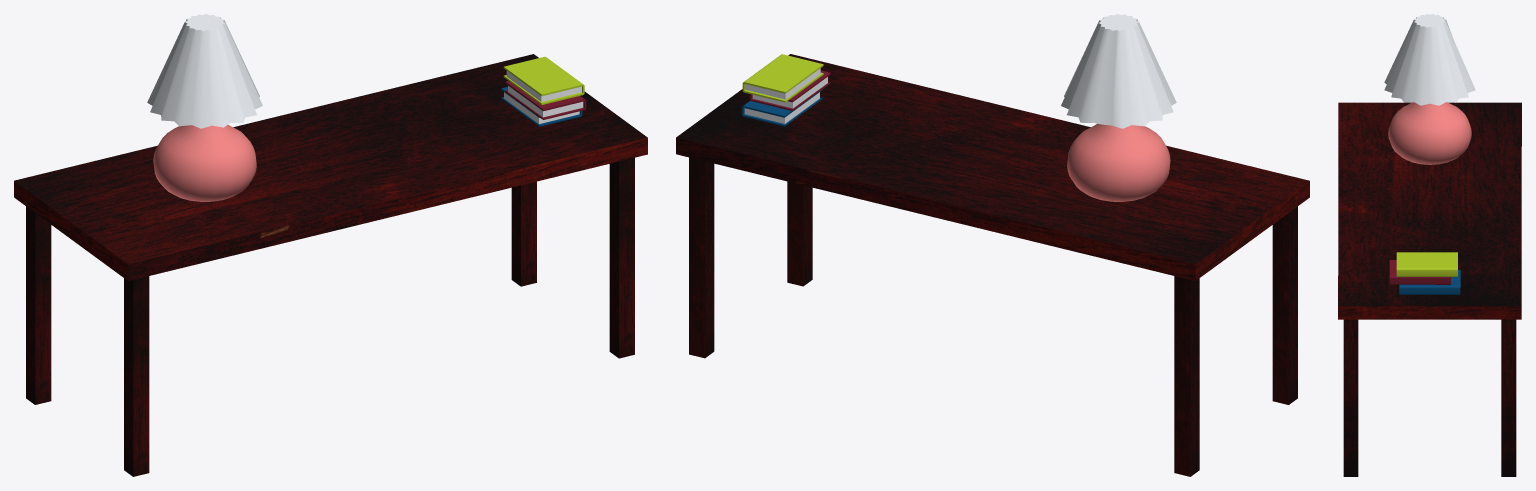
Rendered from lamp-table.obj.
3 views of the same model, side by side, from view 1: azimuth 30°, elevation 25°; view 2: azimuth 150°, elevation 25°; view 3: azimuth 270°, elevation 25° (orthographic). The views are drawn at different scales.
Visible parts, largest first — view 1: pCube1, pCylinder1, pSphere1, pCube5, pCube3, pCube4, pCube2, pCube11, pCube9; view 2: pCube1, pCylinder1, pSphere1, pCube4, pCube2, pCube5, pCube3, pCube11, pCube6; view 3: pCube1, pCylinder1, pSphere1, pCube2, pCube3, pCube11, pCube6, pCube9.
Boxes of the visible parts, <box> form: pCube1: <box>14,54,647,280</box>; pCylinder1: <box>147,14,262,128</box>; pSphere1: <box>153,125,256,201</box>; pCube5: <box>124,276,149,476</box>; pCube3: <box>609,157,634,358</box>; pCube4: <box>26,206,51,404</box>; pCube2: <box>511,181,536,286</box>; pCube11: <box>503,56,584,104</box>; pCube9: <box>505,81,586,119</box>; pCube1: <box>676,54,1309,280</box>; pCylinder1: <box>1061,14,1176,128</box>; pSphere1: <box>1067,123,1170,201</box>; pCube4: <box>1174,276,1199,476</box>; pCube2: <box>689,157,714,358</box>; pCube5: <box>1272,206,1297,404</box>; pCube3: <box>787,181,812,286</box>; pCube11: <box>742,54,823,102</box>; pCube6: <box>741,89,822,126</box>; pCube1: <box>1338,102,1521,319</box>; pCylinder1: <box>1384,14,1475,105</box>; pSphere1: <box>1388,102,1471,164</box>; pCube2: <box>1501,319,1516,476</box>; pCube3: <box>1343,319,1358,476</box>; pCube11: <box>1396,252,1457,276</box>; pCube6: <box>1399,270,1460,294</box>; pCube9: <box>1389,260,1450,284</box>.
Bounding box in the file's own units: 32.3 × 22.83 × 12.31.
Materials: 7 (1 with a texture image).
